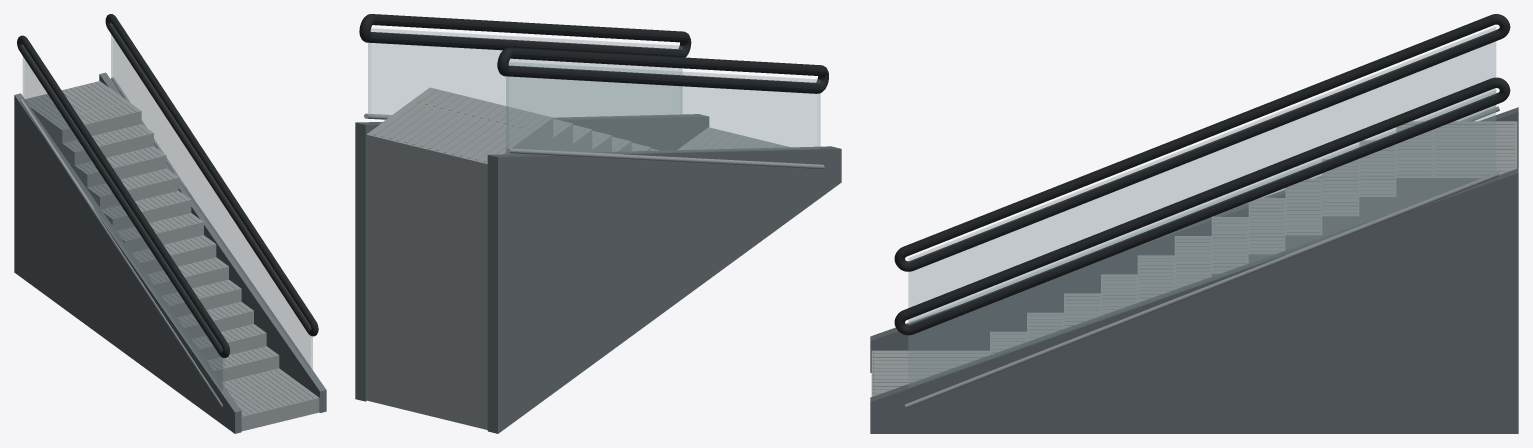
Rendered from full.glb.
3 renders of one model, left to right at view 1: azimuth 30°, elevation 25°; view 2: azimuth 150°, elevation 25°; view 3: azimuth 270°, elevation 25°, orthographic. The views are drawn at different scales.
Parts seen in each view (by area): view 1: Continuous skirt -1, Closed stepped module, Clear balustrade -1, Clear balustrade 1, Continuous rounded handrail 1, Continuous rounded handrail -1, Continuous skirt 1, Lower reflective trim -1; view 2: Continuous skirt -1, Closed stepped module, Clear balustrade -1, Clear balustrade 1, Continuous rounded handrail -1, Continuous rounded handrail 1, Continuous skirt 1, Lower reflective trim -1; view 3: Continuous skirt 1, Clear balustrade 1, Clear balustrade -1, Closed stepped module, Continuous rounded handrail 1, Continuous rounded handrail -1, Continuous skirt -1, Lower reflective trim 1.
Part boxes in pixels (x1,y1,x2,y2): Continuous skirt -1: [14, 93, 241, 433]; Closed stepped module: [25, 81, 319, 431]; Clear balustrade -1: [23, 45, 224, 392]; Clear balustrade 1: [111, 23, 312, 371]; Continuous rounded handrail 1: [105, 14, 318, 336]; Continuous rounded handrail -1: [17, 35, 229, 357]; Continuous skirt 1: [99, 72, 326, 412]; Lower reflective trim -1: [20, 99, 222, 407]; Continuous skirt -1: [487, 146, 841, 433]; Closed stepped module: [366, 87, 789, 429]; Clear balustrade -1: [506, 62, 820, 153]; Clear balustrade 1: [368, 28, 682, 117]; Continuous rounded handrail -1: [497, 47, 828, 93]; Continuous rounded handrail 1: [359, 14, 691, 57]; Continuous skirt 1: [355, 114, 709, 401]; Lower reflective trim -1: [506, 148, 824, 169]; Continuous skirt 1: [870, 168, 1518, 433]; Clear balustrade 1: [908, 90, 1495, 387]; Clear balustrade -1: [908, 27, 1495, 322]; Closed stepped module: [871, 121, 1517, 396]; Continuous rounded handrail 1: [894, 77, 1510, 335]; Continuous rounded handrail -1: [894, 14, 1510, 271]; Continuous skirt -1: [870, 107, 1518, 372]; Lower reflective trim 1: [905, 172, 1499, 408].
Size of the model in its own units: 1.22 by 2.97 by 4.92.
